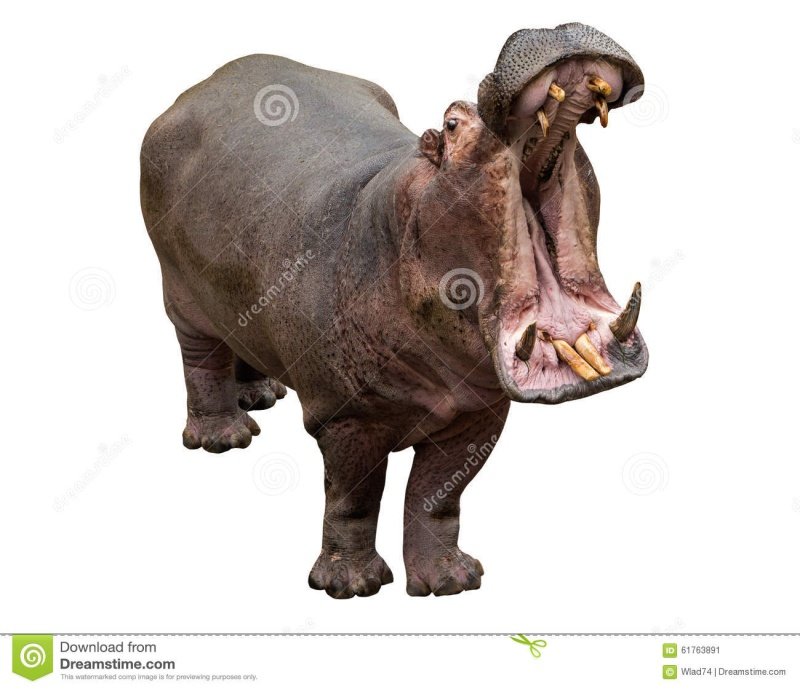hipopotamo: (128, 27, 648, 596)
